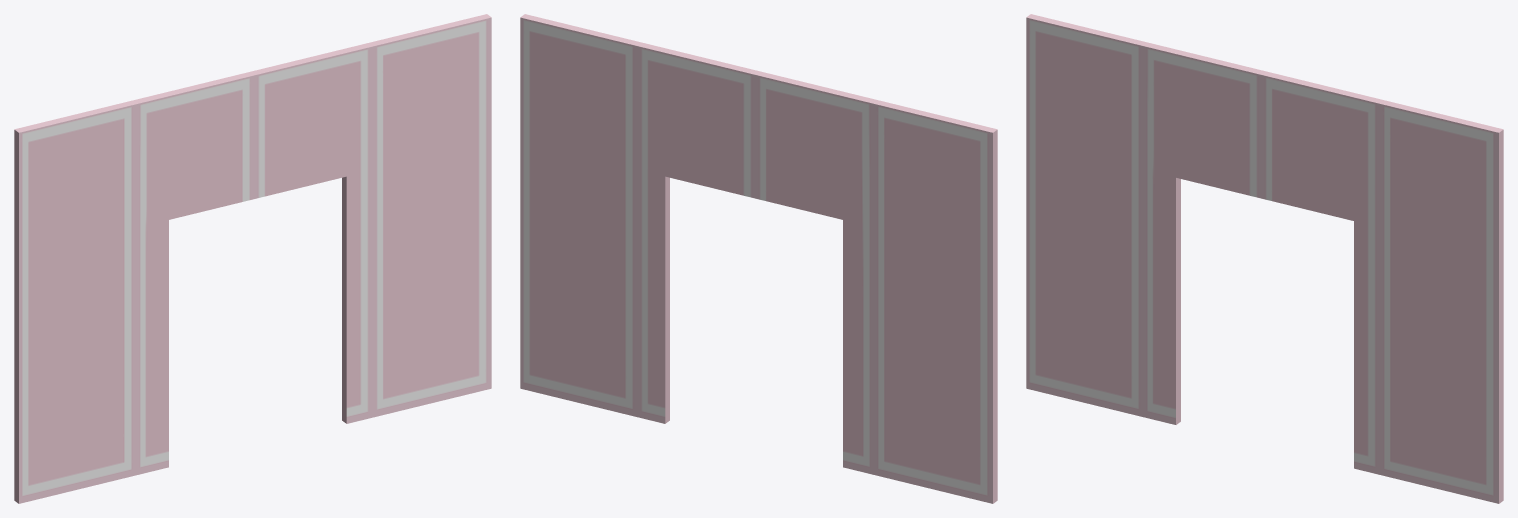
The model's file is Wall_Pink_Door.fbx.
The picture shows the model from 3 angles, left to right: view 1: azimuth 30°, elevation 25°; view 2: azimuth 150°, elevation 25°; view 3: azimuth 330°, elevation 25°; orthographic projection.
Parts seen in each view (by area): view 1: Wall_Pink_Door; view 2: Wall_Pink_Door; view 3: Wall_Pink_Door.
Part boxes in pixels (<box>): Wall_Pink_Door: <box>14,14,491,503</box>; Wall_Pink_Door: <box>520,14,997,503</box>; Wall_Pink_Door: <box>1026,14,1503,503</box>.
Size of the model in its own units: 400 by 300 by 7.
